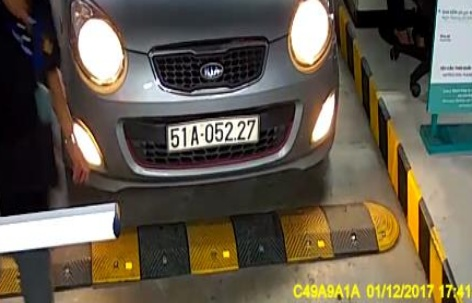plate: (164, 116, 263, 151)
